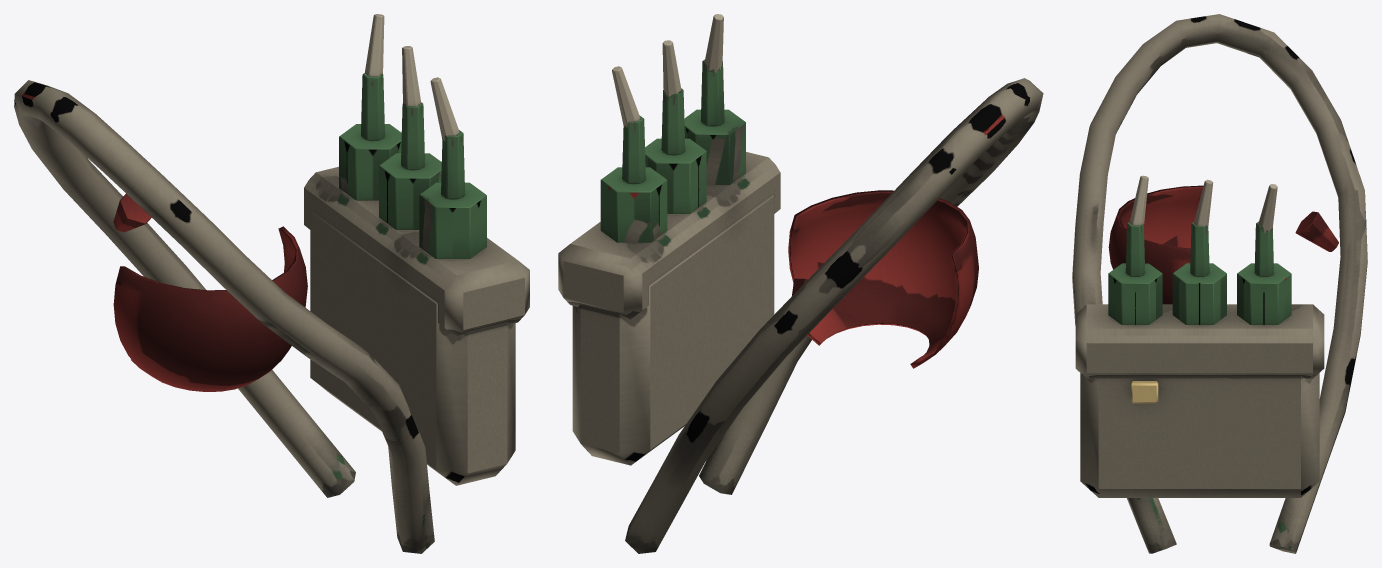
Rendered from gear_firebomber.gltf.
3 views of the same model, side by side, from view 1: azimuth 30°, elevation 25°; view 2: azimuth 150°, elevation 25°; view 3: azimuth 270°, elevation 25° (orthographic). The views are drawn at different scales.
Parts seen in each view (by area): view 1: satchel__hips, strap__chest, bandana__head; view 2: satchel__hips, strap__chest, bandana__head; view 3: satchel__hips, strap__chest, bandana__head.
Boxes of the visible parts, bbox=[...] form: satchel__hips: bbox=[304, 14, 529, 485]; strap__chest: bbox=[14, 80, 434, 553]; bandana__head: bbox=[113, 193, 307, 391]; satchel__hips: bbox=[558, 14, 780, 465]; strap__chest: bbox=[625, 78, 1043, 553]; bandana__head: bbox=[788, 190, 978, 368]; satchel__hips: bbox=[1075, 175, 1324, 497]; strap__chest: bbox=[1072, 14, 1367, 553]; bandana__head: bbox=[1108, 185, 1338, 304].
Bounding box in the file's own units: 0.4183 × 0.4963 × 0.3212.
Materials: 1 (1 with a texture image).
